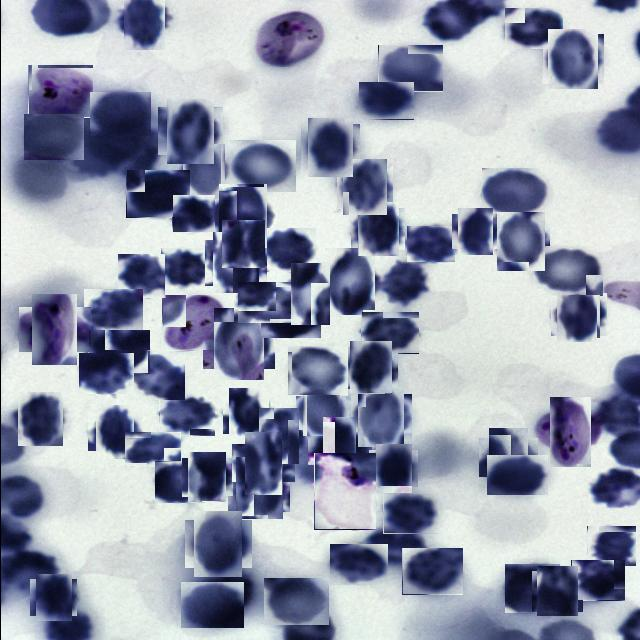red blood cell: (207, 312, 269, 374), (531, 246, 602, 296), (319, 252, 378, 311), (229, 140, 295, 192), (481, 168, 549, 218), (188, 515, 246, 573), (214, 188, 270, 245), (262, 578, 328, 626), (162, 103, 218, 159), (231, 460, 286, 516), (125, 170, 189, 218), (377, 45, 442, 92), (286, 346, 347, 396), (544, 32, 600, 86), (353, 390, 408, 444), (492, 214, 546, 268), (208, 236, 262, 290), (180, 582, 243, 628), (401, 548, 462, 595), (23, 114, 83, 160), (87, 330, 149, 374), (304, 121, 356, 173), (504, 564, 559, 613), (89, 92, 150, 136), (260, 294, 320, 338), (236, 282, 298, 324), (284, 268, 334, 320), (127, 354, 184, 399), (14, 394, 64, 444), (339, 162, 389, 212), (238, 438, 288, 488), (503, 8, 562, 50), (83, 289, 142, 331), (486, 455, 547, 495), (360, 312, 418, 354), (329, 542, 387, 584), (483, 433, 532, 482), (178, 148, 228, 196), (554, 290, 602, 340), (158, 394, 214, 436), (315, 424, 363, 473), (254, 411, 302, 460), (117, 0, 168, 46), (262, 228, 315, 272), (353, 205, 401, 253), (346, 344, 394, 392), (380, 260, 431, 305), (78, 353, 133, 394), (570, 560, 624, 601), (382, 494, 437, 534), (357, 82, 413, 120), (91, 408, 137, 454), (225, 391, 271, 437), (534, 568, 580, 614), (219, 221, 265, 267), (118, 254, 166, 298), (154, 460, 204, 502), (123, 432, 180, 468), (184, 454, 228, 500), (160, 248, 208, 290), (586, 526, 635, 567), (298, 389, 342, 433), (371, 447, 414, 490), (454, 210, 496, 252), (32, 576, 74, 618), (406, 226, 454, 262), (171, 195, 214, 233)
trophozoite: (313, 453, 375, 530), (252, 8, 327, 66), (161, 295, 225, 351), (27, 65, 92, 118), (25, 301, 83, 358), (542, 404, 598, 460)
